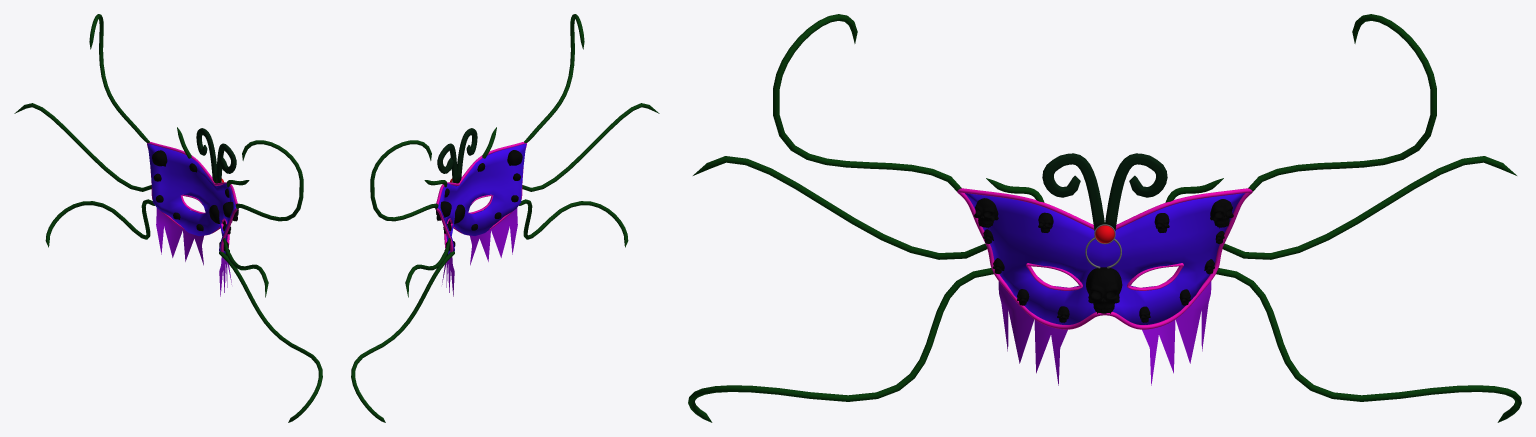
Rendered from ZombieMask.fbx.
The picture shows the model from 3 angles, left to right: view 1: azimuth 30°, elevation 25°; view 2: azimuth 150°, elevation 25°; view 3: azimuth 270°, elevation 25°; orthographic projection. The views are drawn at different scales.
Parts seen in each view (by area): view 1: Vine, Mask, TornWings, Antenna, SkullDecor', FaceTrim; view 2: Vine, Mask, TornWings, Antenna, SkullDecor', FaceTrim; view 3: Mask, Vine, TornWings, Antenna, FaceTrim, SkullDecor', Skull, EyeTrim.
Boxes of the visible parts, x1,y1,x2,y2 form: Vine: (14, 14, 322, 422); Mask: (147, 143, 235, 253); TornWings: (156, 208, 231, 296); Antenna: (196, 128, 236, 186); SkullDecor': (152, 150, 238, 255); FaceTrim: (147, 142, 238, 252); Vine: (351, 14, 659, 422); Mask: (438, 143, 526, 254); TornWings: (442, 208, 517, 296); Antenna: (437, 128, 477, 186); SkullDecor': (436, 150, 522, 255); FaceTrim: (435, 142, 526, 252); Mask: (965, 193, 1244, 324); Vine: (688, 14, 1521, 422); TornWings: (998, 281, 1211, 385); Antenna: (1042, 153, 1167, 230); FaceTrim: (957, 188, 1252, 329); SkullDecor': (974, 198, 1233, 322); Skull: (1086, 267, 1122, 313); EyeTrim: (1026, 263, 1183, 290).
Size of the model in its own units: 150 by 402 by 731.
